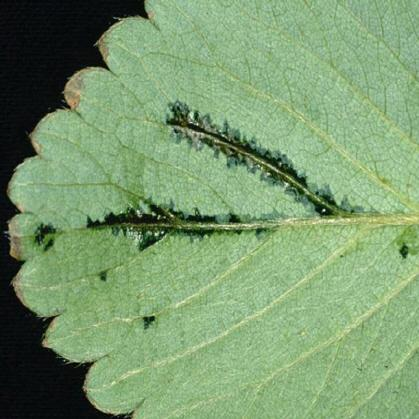Angular Leafspot: (26, 98, 418, 333)
